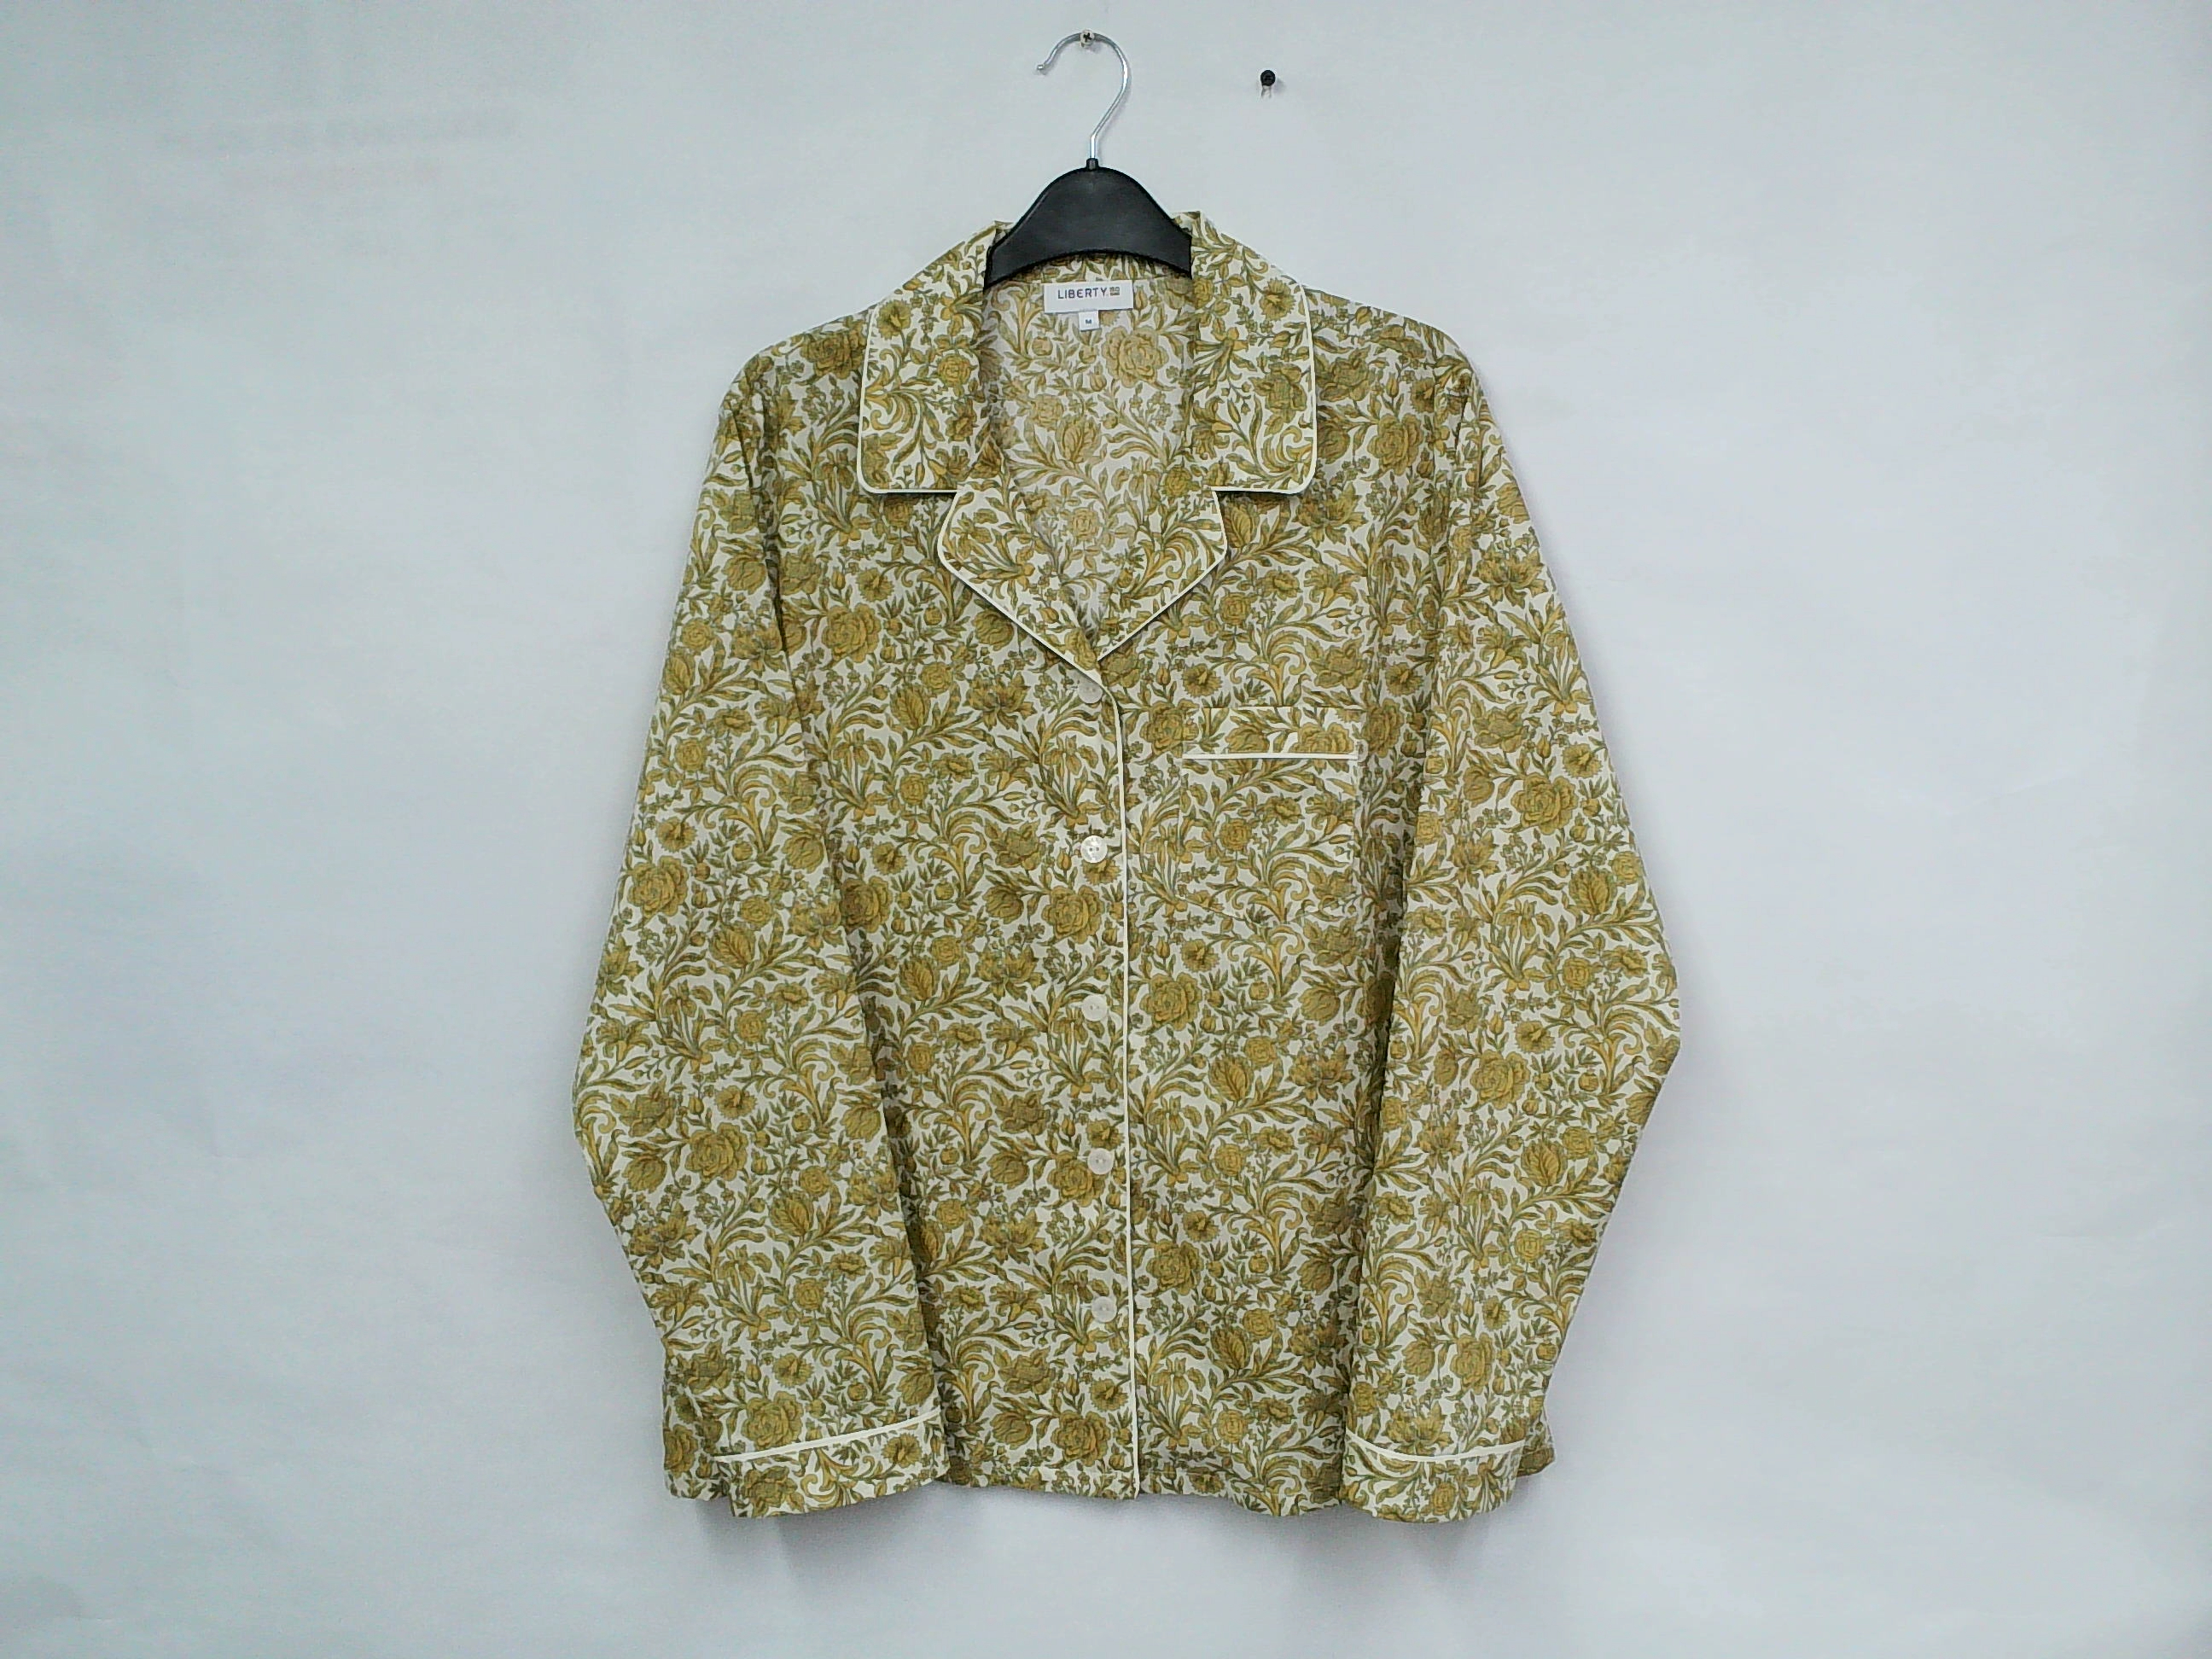seam: (669, 1392, 951, 1486)
